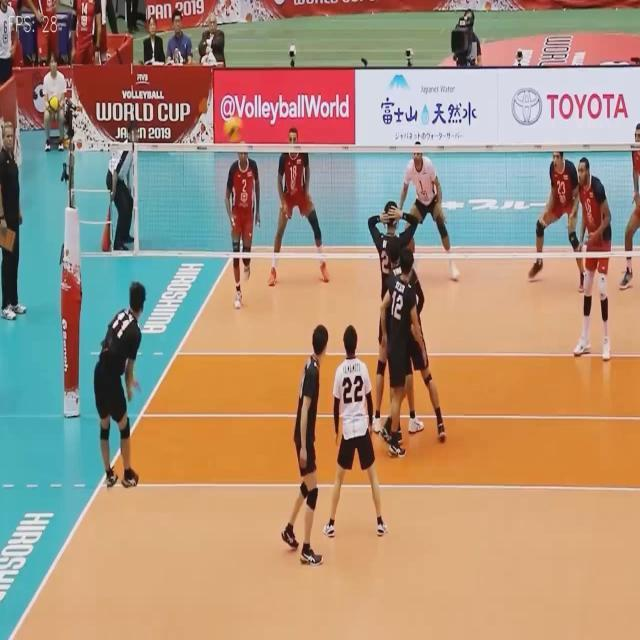volleyball: (224, 116, 242, 140)
